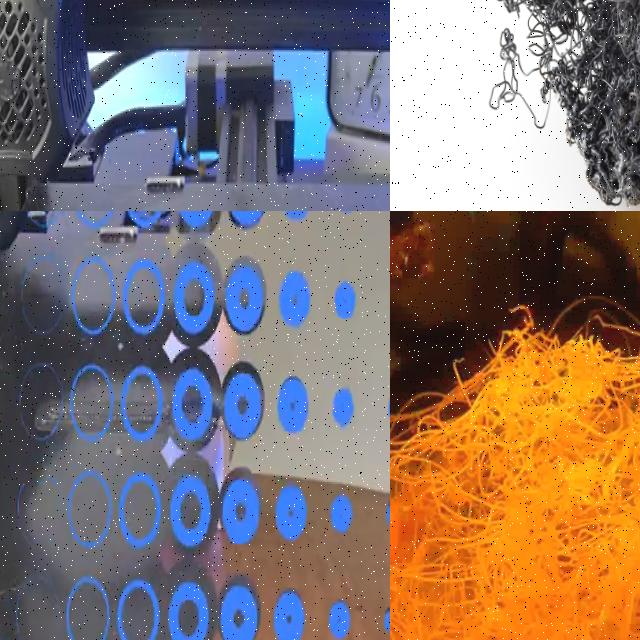spaghetti: (390, 308, 640, 640), (486, 30, 553, 134)
